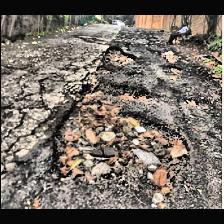pothole: (48, 82, 190, 208), (100, 47, 136, 65), (158, 49, 180, 61), (169, 66, 181, 74)
